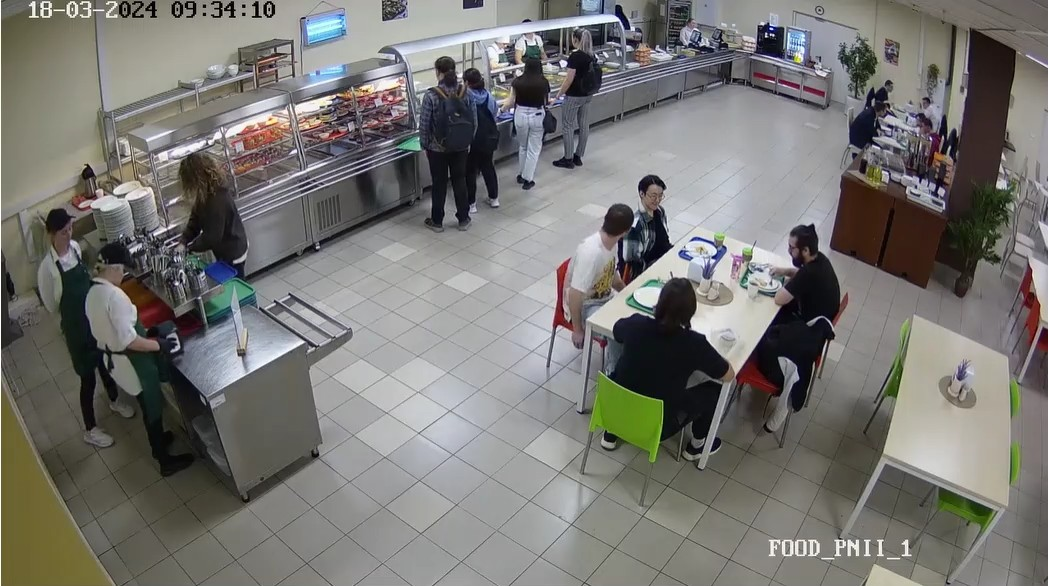Personal: (77, 241, 193, 480), (29, 199, 102, 404), (481, 27, 510, 72), (515, 19, 545, 61), (675, 16, 707, 52), (607, 5, 638, 41)
Vybiraet: (403, 54, 467, 241), (454, 65, 514, 213), (178, 150, 241, 279), (557, 21, 597, 160), (513, 48, 549, 187)
Za_Stolom: (579, 288, 718, 477), (542, 196, 641, 365), (764, 218, 850, 322), (629, 166, 668, 249), (907, 116, 946, 159), (855, 100, 882, 154), (875, 71, 898, 111), (914, 91, 938, 122)
